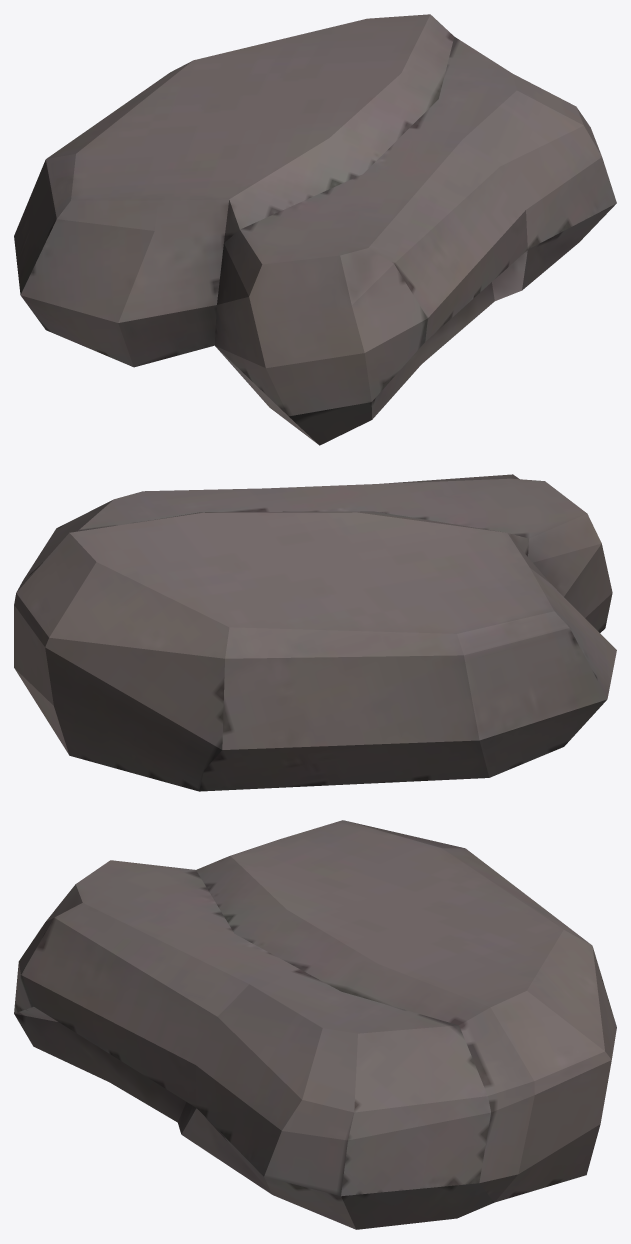
3 views of the same model, one above another, from view 1: azimuth 30°, elevation 25°; view 2: azimuth 150°, elevation 25°; view 3: azimuth 270°, elevation 25° (orthographic). The views are drawn at different scales.
Parts seen in each view (by area): view 1: body0_model0_lod0_mesh0; view 2: body0_model0_lod0_mesh0; view 3: body0_model0_lod0_mesh0.
Part boxes in pixels (x1=…): body0_model0_lod0_mesh0: x1=14, y1=14, x2=616, y2=445; body0_model0_lod0_mesh0: x1=14, y1=474, x2=616, y2=791; body0_model0_lod0_mesh0: x1=14, y1=820, x2=616, y2=1229.
Bounding box in the file's own units: 74.13 × 25.1 × 64.04.
1 material, 1 textured.
